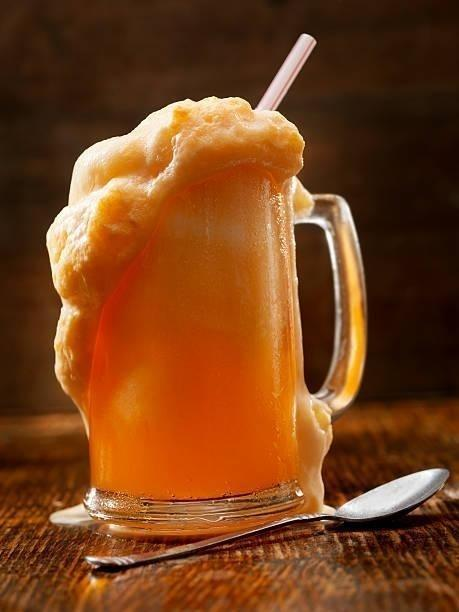glass-mug: (80, 150, 371, 537)
